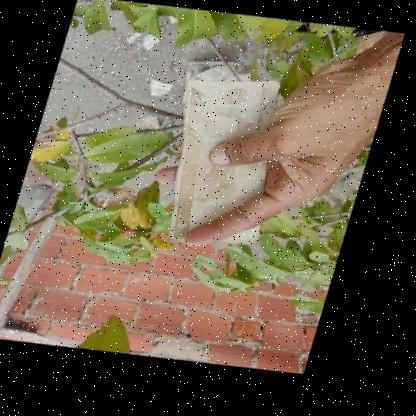five-back-vef: (167, 73, 289, 261)
